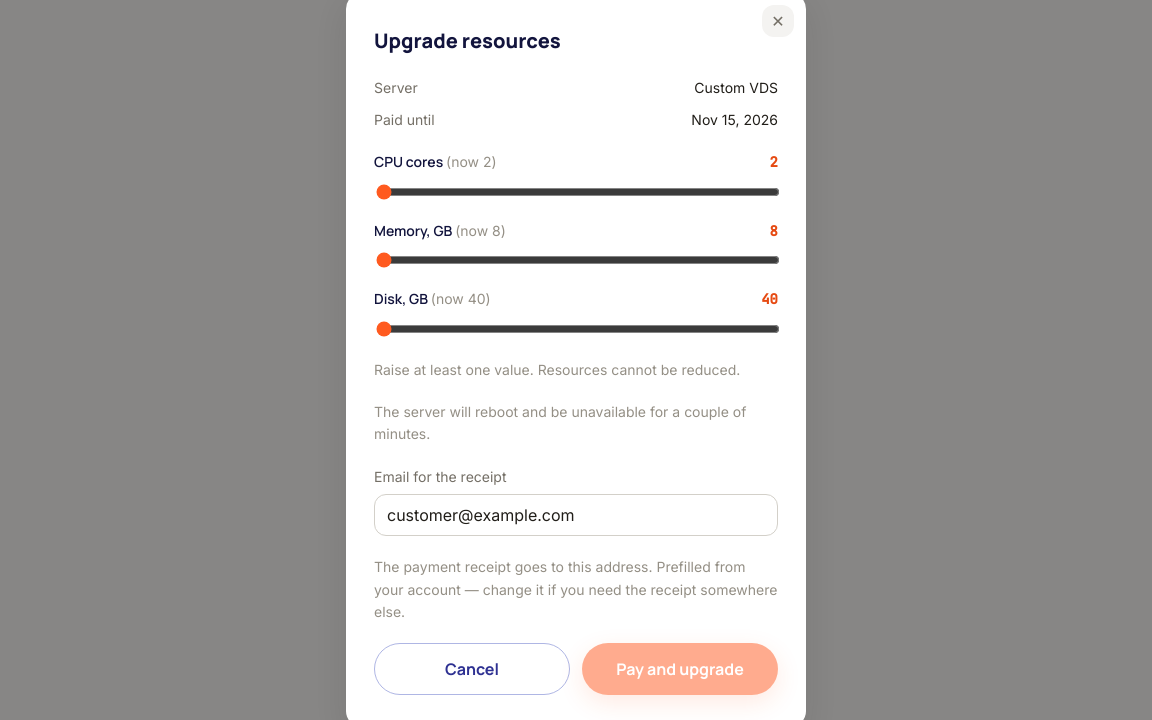
Scenario: UpgradeModal › keeps the card button when the balance is not enough
This screenshot has width=1152, height=720.
Set the slider named "Memory, GB" to "16" at (439, 260), box [376,252,780,268]
(page scrolled)
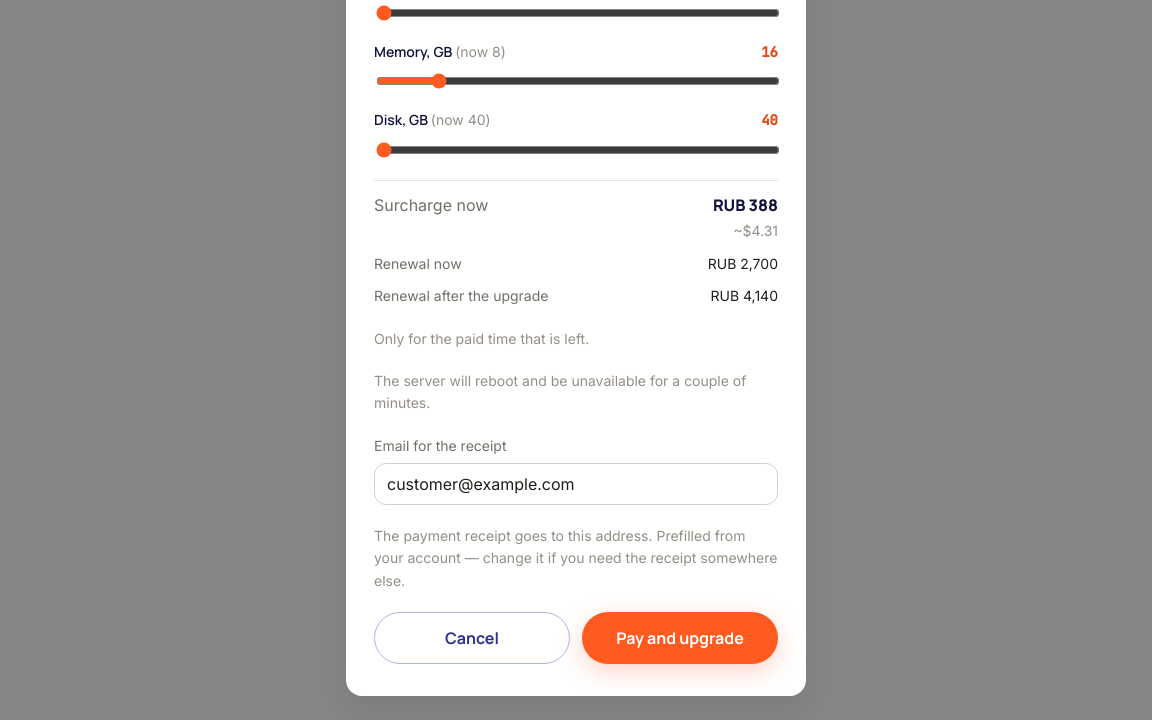
Expected: the button "Pay and upgrade" is shown, [582,612,778,664]
Expected: the text "RUB 388" is shown, [713,193,778,218]
